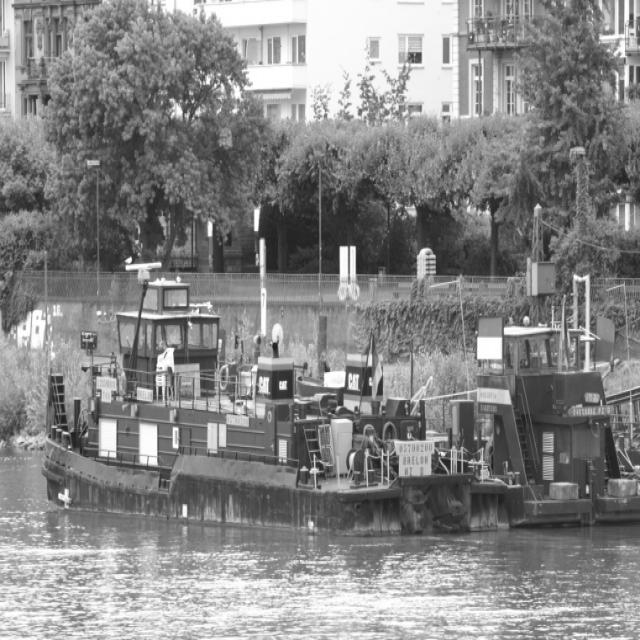tugboat: (39, 257, 524, 556)
